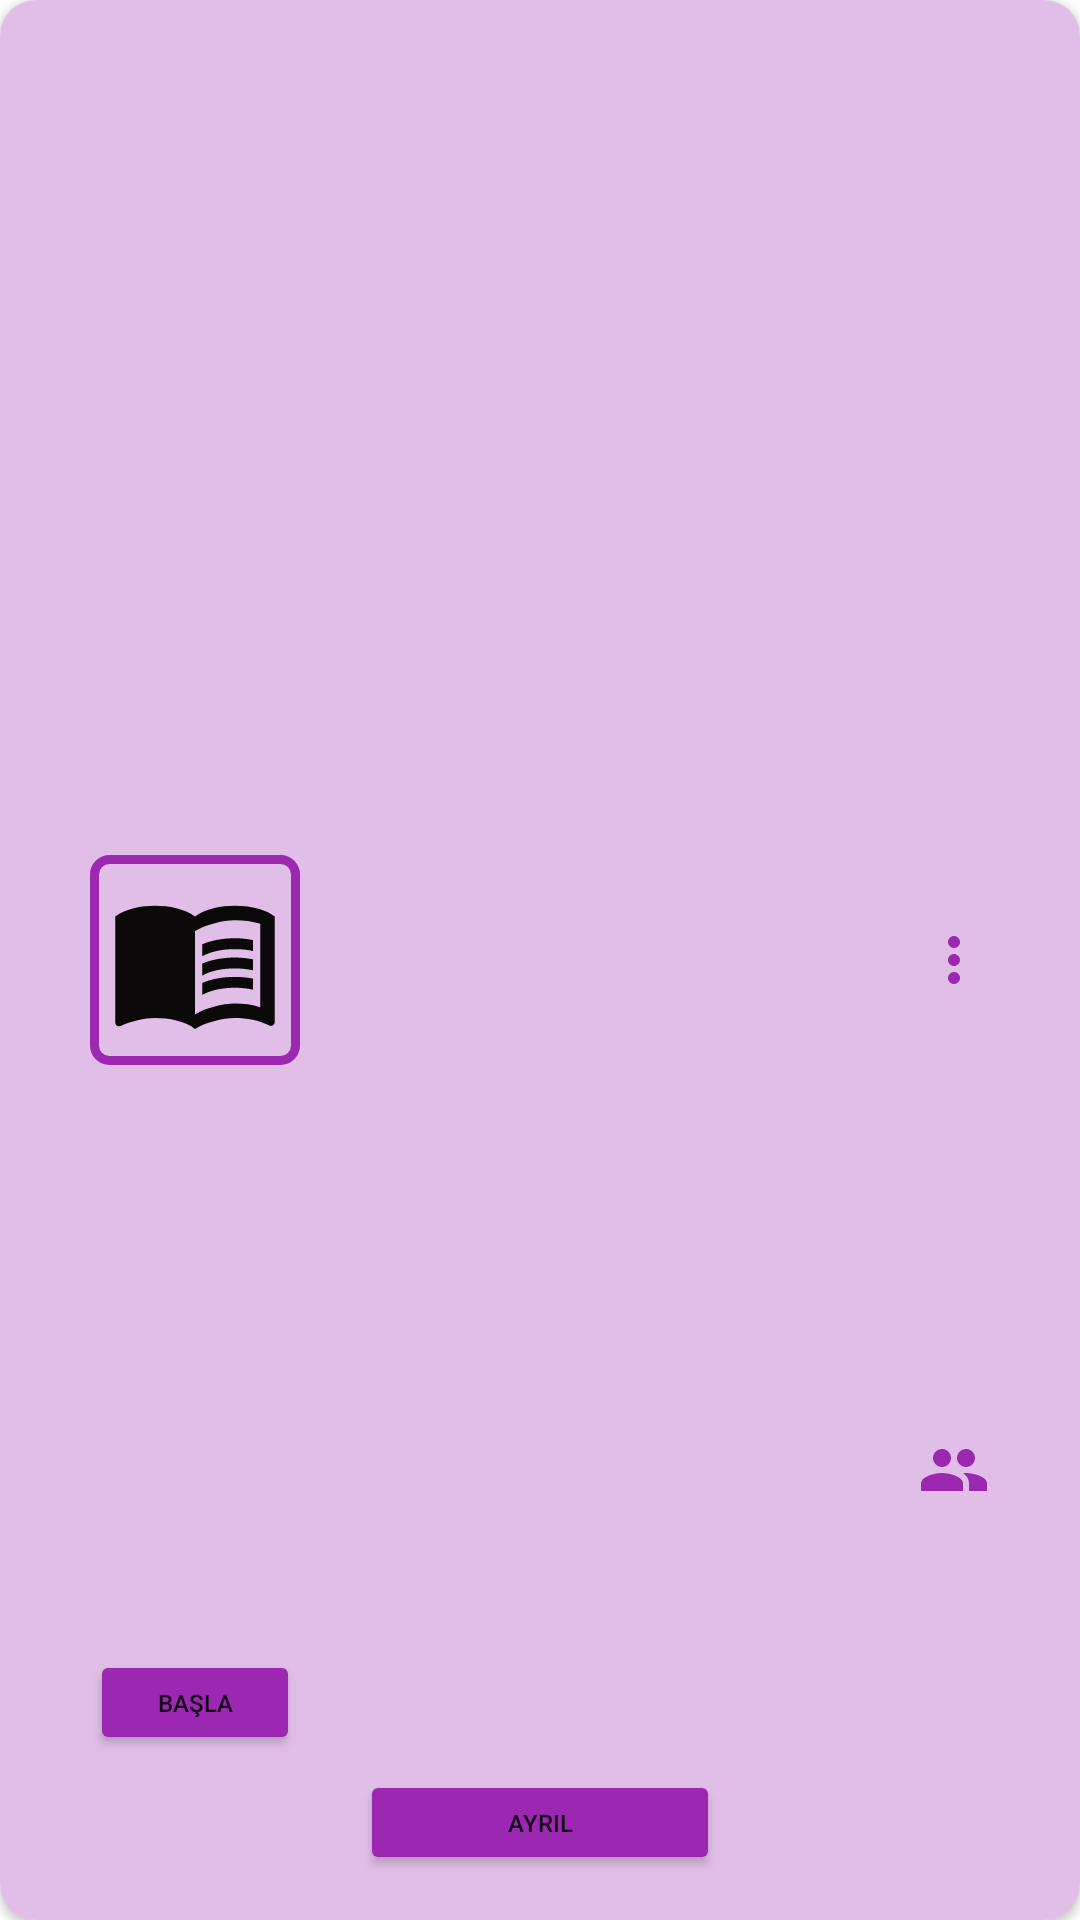

Icon click points for this 1080x1920 phone screenshot, format (x=x, y=y):
ayrinti: (x=954, y=960)
insanlar katilan: (x=954, y=1470)
kitap: (x=195, y=960)
